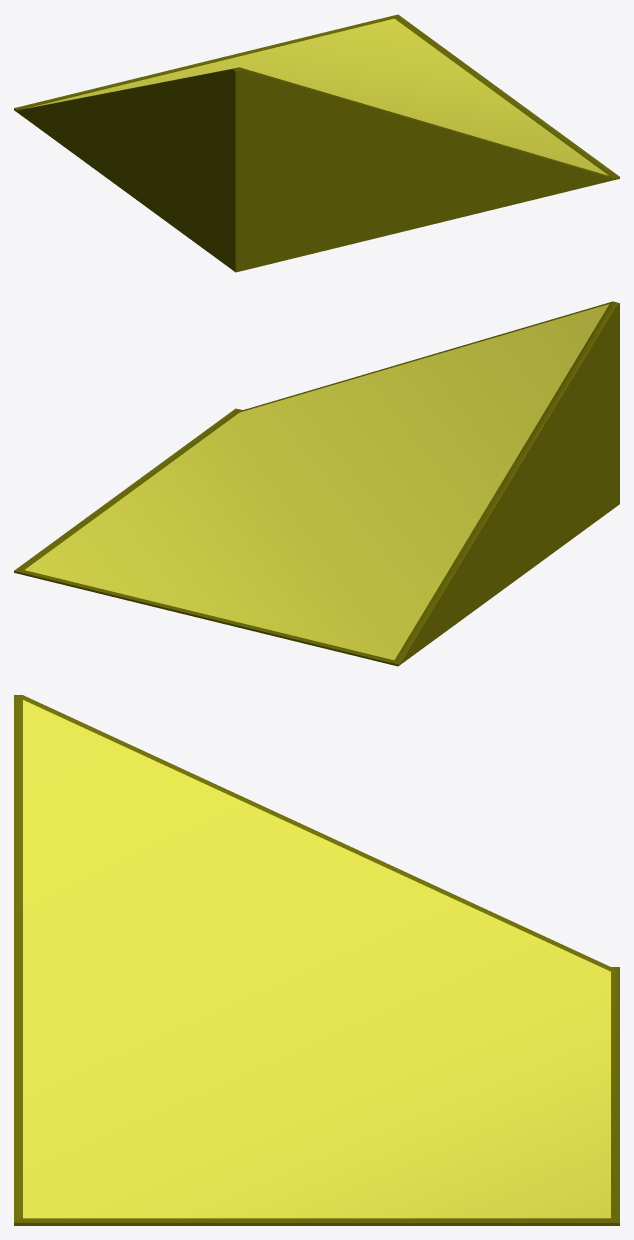
The model's file is Casilla 17.fbx.
3 renders of one model, top to bottom at view 1: azimuth 30°, elevation 25°; view 2: azimuth 150°, elevation 25°; view 3: azimuth 270°, elevation 25°, orthographic. The views are drawn at different scales.
Visible parts, largest first — view 1: pCube6; view 2: pCube6; view 3: pCube6.
Part boxes in pixels (bbox=[...]): pCube6: bbox=[14, 14, 619, 272]; pCube6: bbox=[14, 301, 619, 666]; pCube6: bbox=[14, 695, 619, 1225].
Size of the model in its own units: 200 by 100 by 200.
